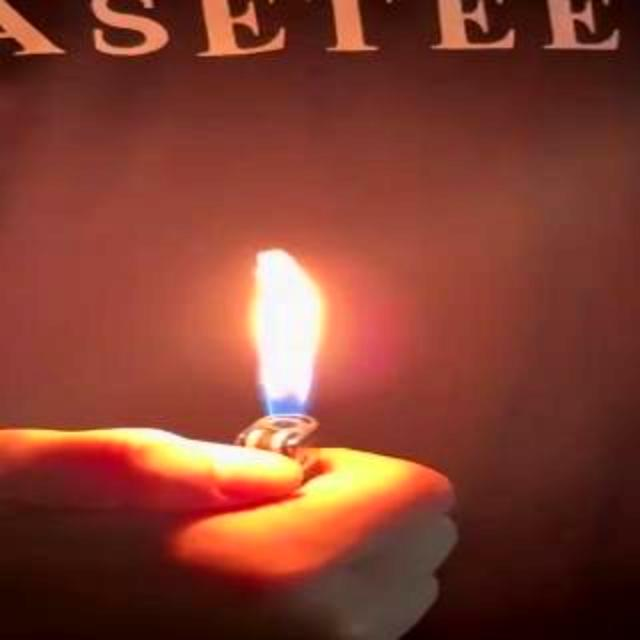fire: (235, 250, 322, 454)
